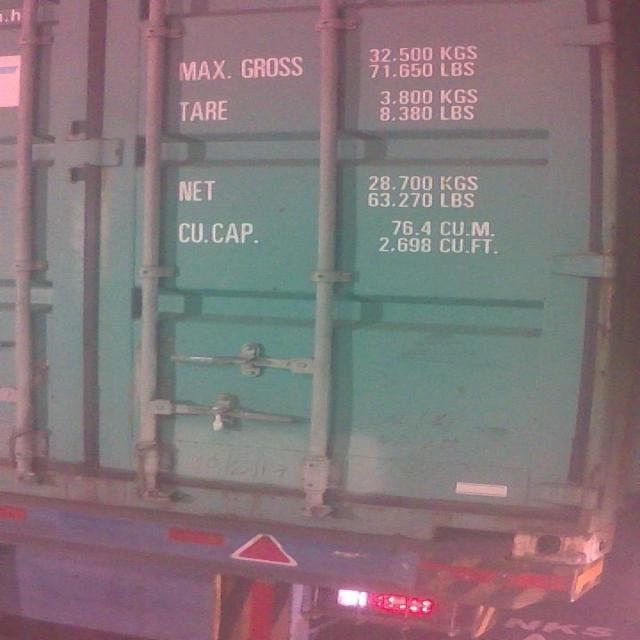seal: (204, 398, 230, 436)
